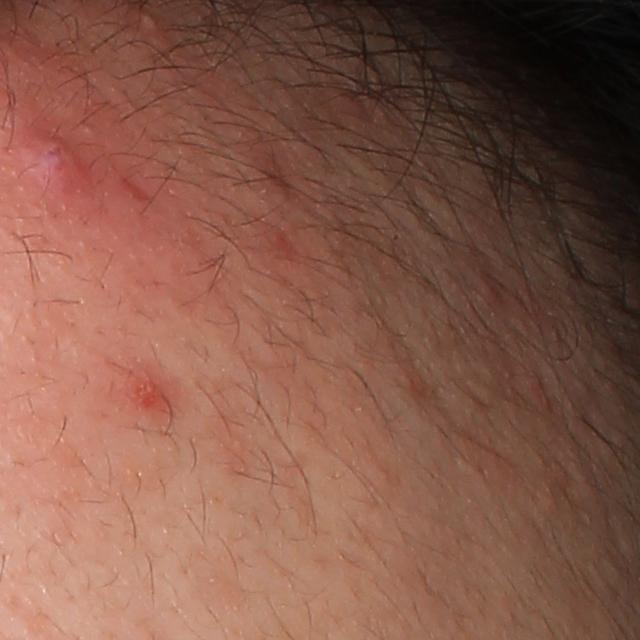papule: (20, 125, 93, 203), (123, 367, 166, 418)
